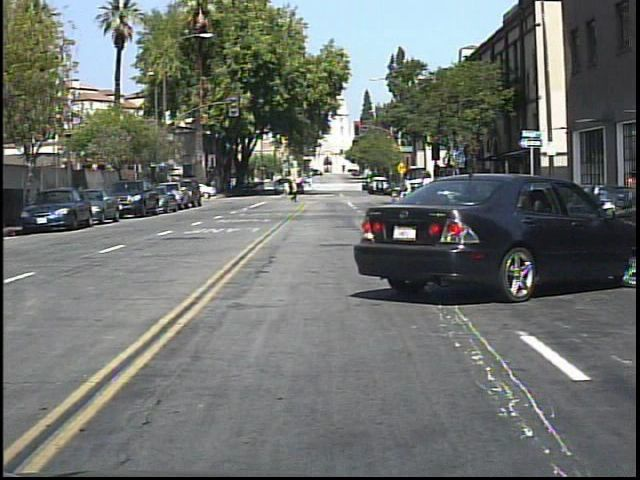person: (413, 161, 445, 255), (525, 169, 544, 222), (621, 166, 636, 216), (400, 174, 420, 208), (289, 175, 305, 206)
